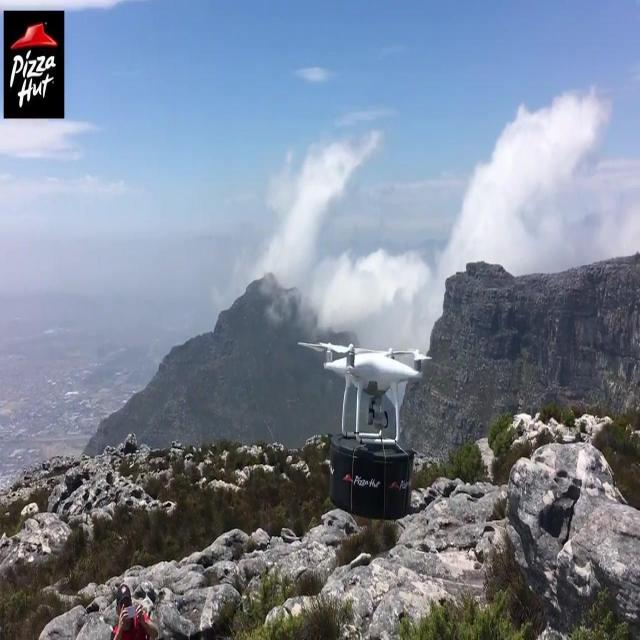UAV: (298, 342, 432, 442)
